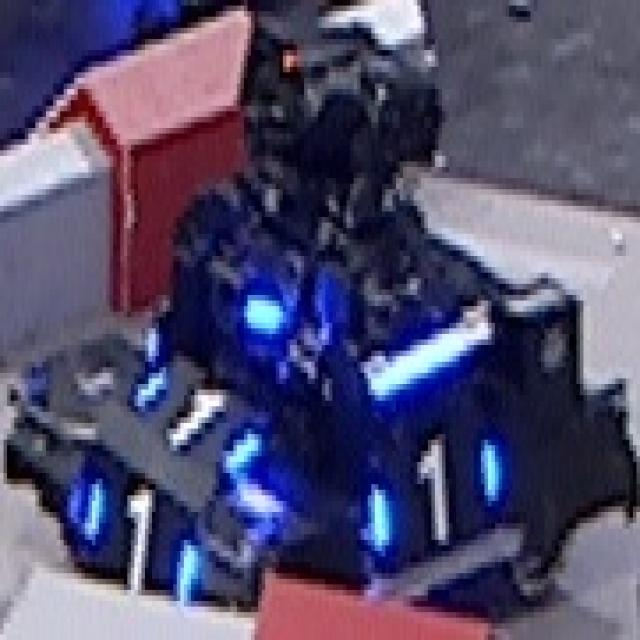B1: (131, 351, 265, 478), (368, 428, 502, 551), (82, 468, 202, 596)
